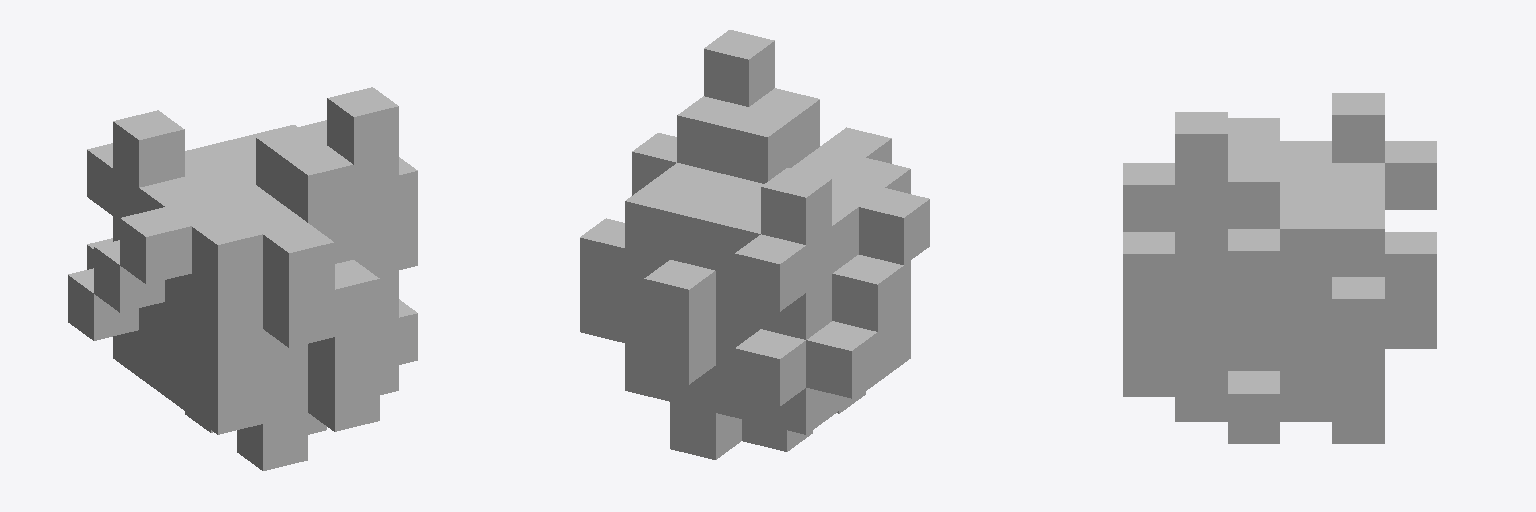
The model's file is GhostEnemy.obj.
3 renders of one model, left to right at view 1: azimuth 30°, elevation 25°; view 2: azimuth 150°, elevation 25°; view 3: azimuth 270°, elevation 25°, orthographic.
Visible parts, largest first — view 1: Cube; view 2: Cube; view 3: Cube.
Part boxes in pixels (bbox=[...]): Cube: bbox=[68, 87, 417, 470]; Cube: bbox=[580, 30, 929, 459]; Cube: bbox=[1123, 93, 1436, 443].
Bounding box in the file's own units: 1.5 × 1.75 × 1.5.